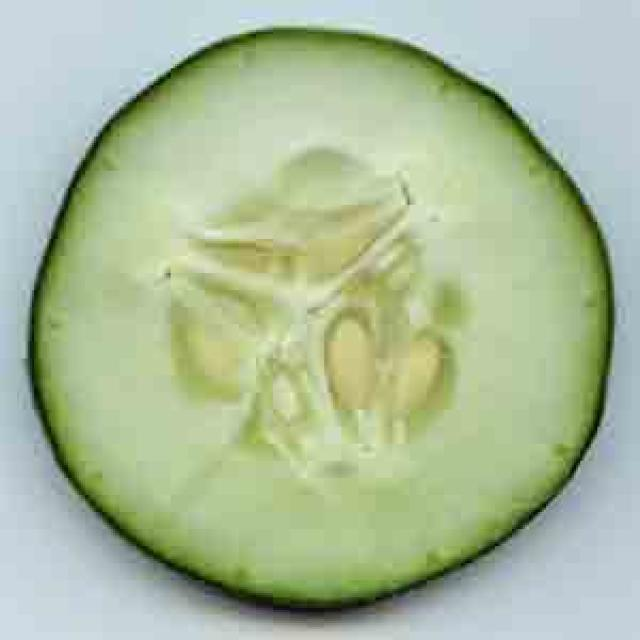Cucumber: (15, 12, 630, 628)
